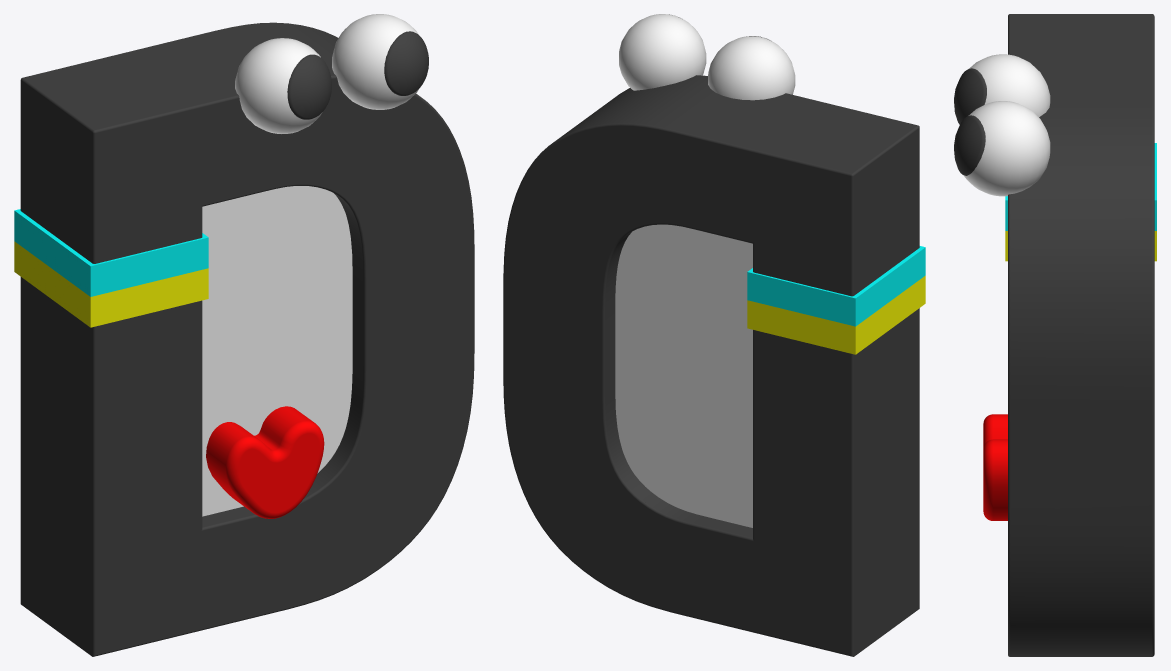
3 renders of one model, left to right at view 1: azimuth 30°, elevation 25°; view 2: azimuth 150°, elevation 25°; view 3: azimuth 270°, elevation 25°, orthographic. The views are drawn at different scales.
Parts seen in each view (by area): view 1: 023_DayDay_D1_L; view 2: 023_DayDay_D1_L; view 3: 023_DayDay_D1_L.
Part boxes in pixels (box(x1,y1,x2,y2)): 023_DayDay_D1_L: box(14, 14, 474, 656); 023_DayDay_D1_L: box(503, 14, 925, 656); 023_DayDay_D1_L: box(954, 14, 1156, 656).
Size of the model in its own units: 0.1414 by 0.2001 by 0.0648.
